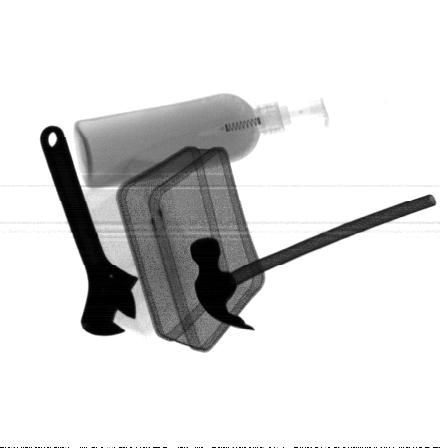Hammer: (190, 194, 438, 331)
Wrench: (41, 126, 141, 336)
